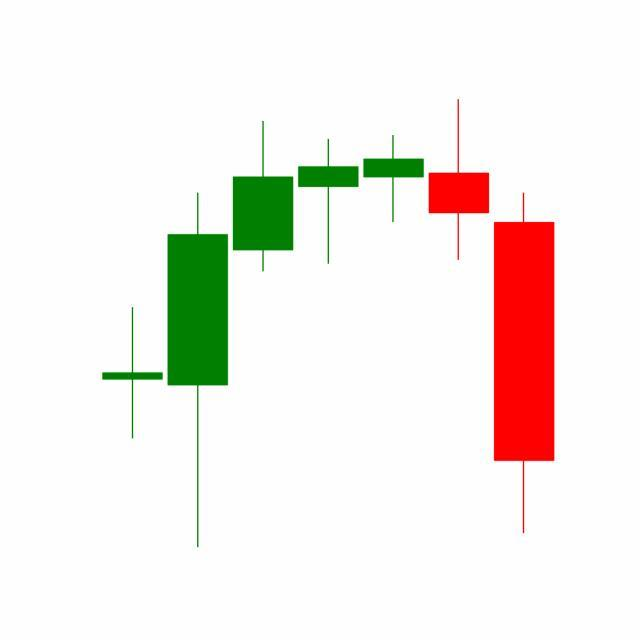Hikkake Pattern: (229, 99, 555, 539)
